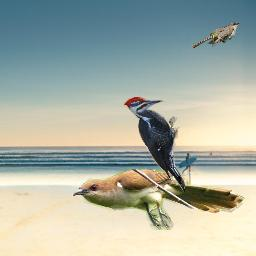Cuckoo: (72, 169, 245, 230), (191, 22, 240, 48)
Woodpecker: (123, 96, 185, 192)
